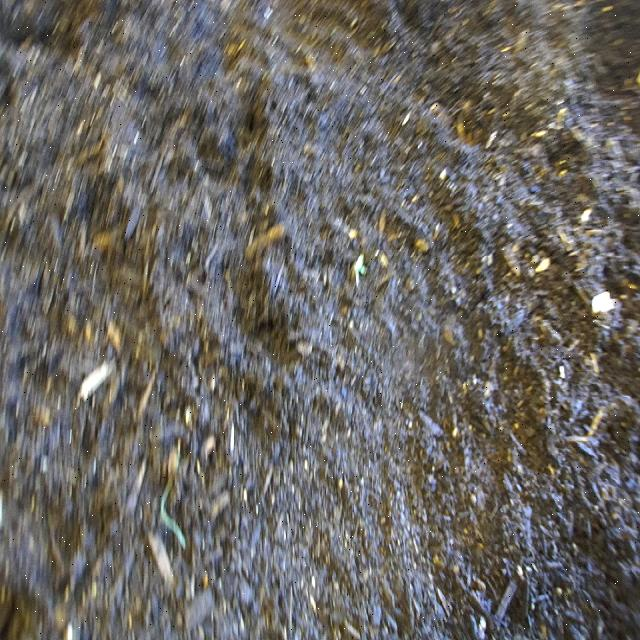Unhealthy: (346, 240, 373, 298)
